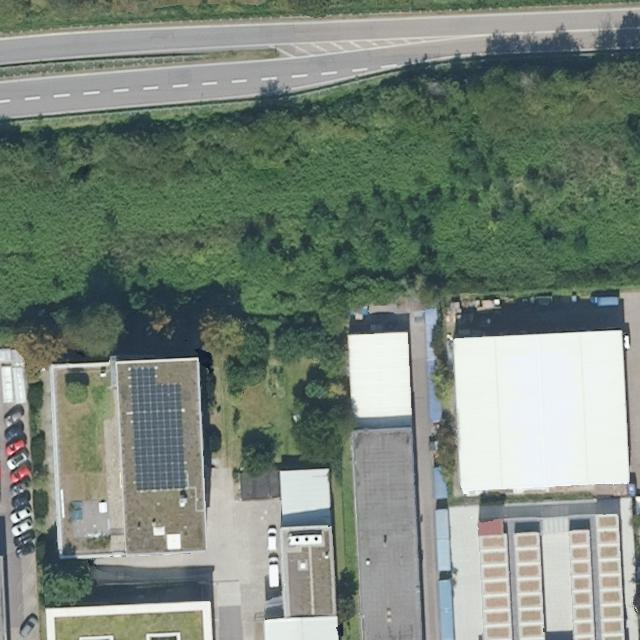PV: (126, 365, 189, 496)
